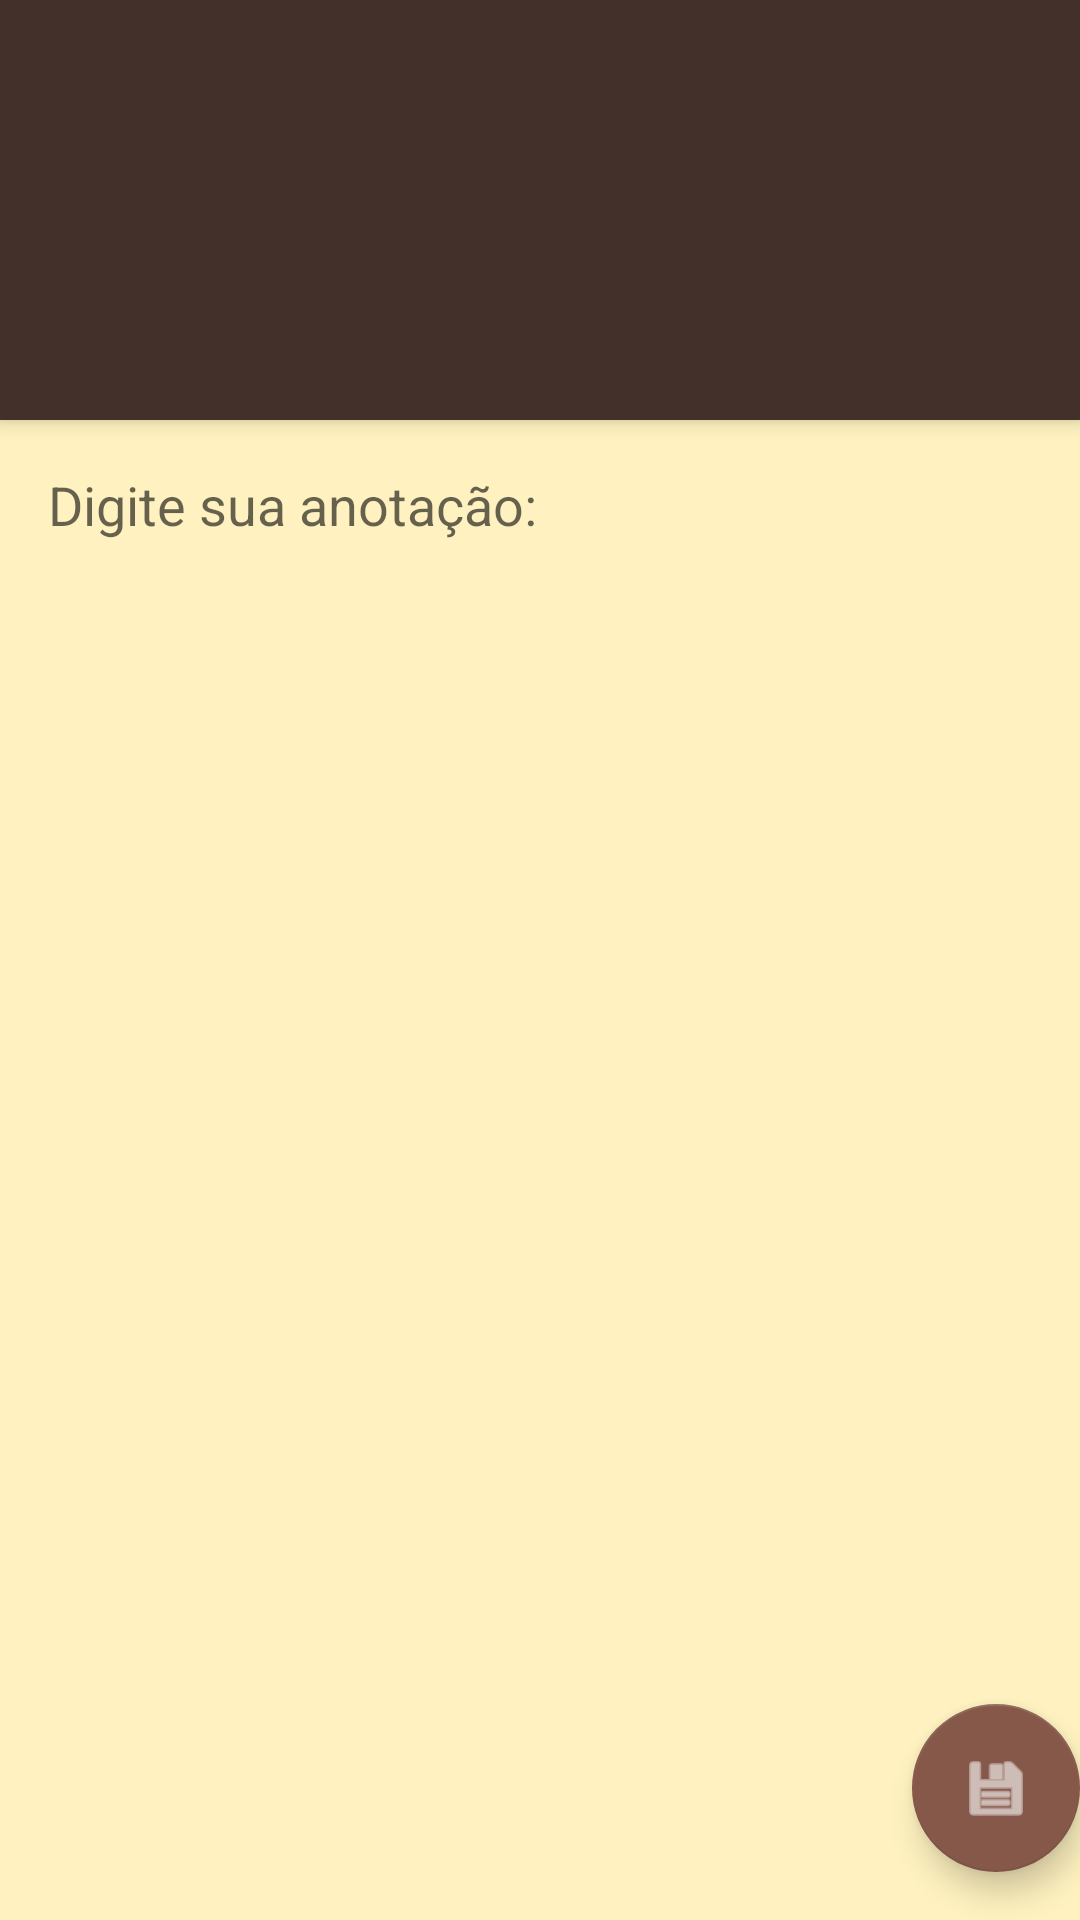

Icons on this 1080w x 1920h Android screen, each with its box as (x1,y1,x2,y2):
save: (912,1704,1080,1872)
